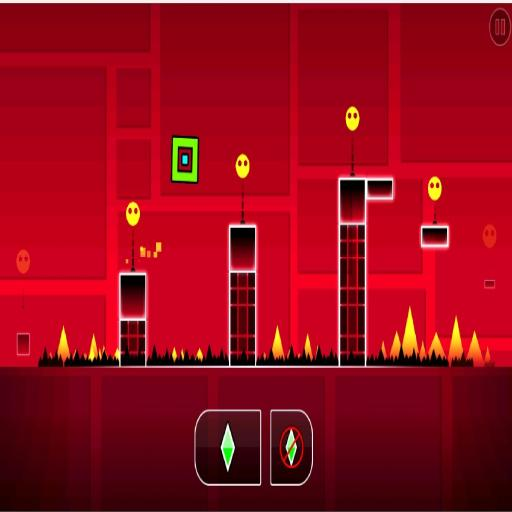block: (339, 179, 365, 365), (230, 223, 256, 366), (119, 271, 147, 365), (420, 225, 449, 249), (368, 178, 394, 201), (16, 332, 30, 358), (484, 281, 495, 289)
player: (171, 137, 198, 184)
spike: (402, 307, 418, 357), (449, 316, 463, 365), (467, 332, 484, 366), (429, 333, 445, 359), (58, 327, 69, 361), (272, 327, 283, 359), (390, 332, 401, 359), (89, 335, 97, 360), (305, 334, 312, 359), (420, 342, 425, 360), (381, 341, 386, 359), (196, 348, 202, 361), (172, 347, 177, 362), (485, 347, 490, 362), (114, 348, 119, 360), (181, 348, 184, 360), (263, 353, 266, 360)
